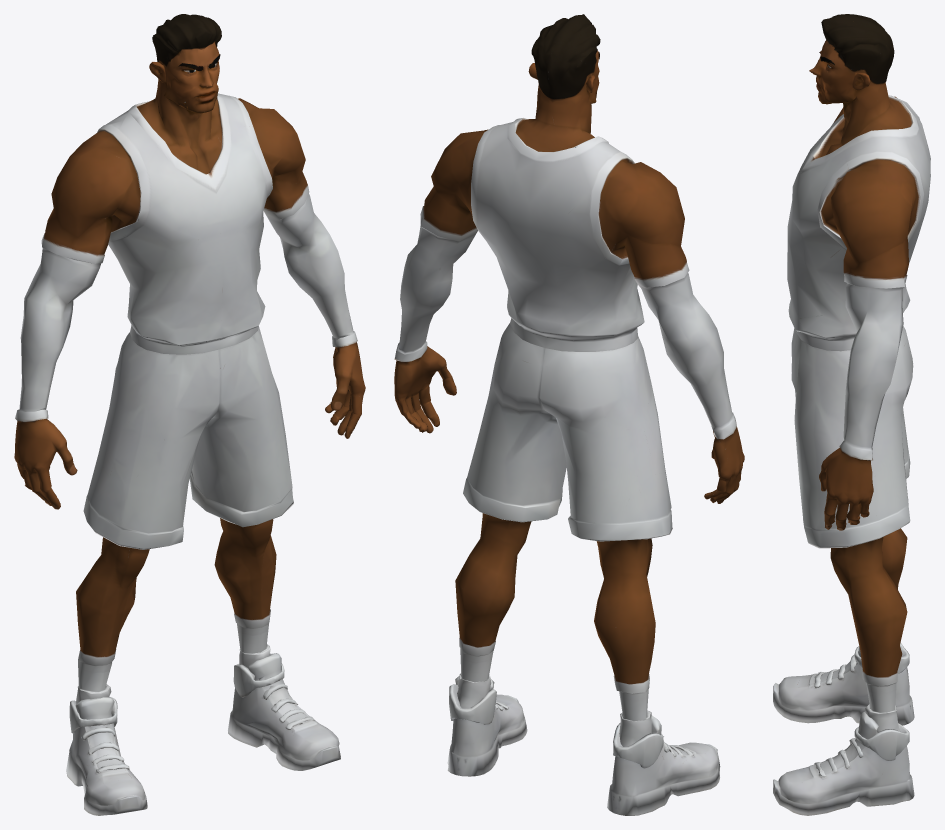
Rendered from lockdown.glb.
The picture shows the model from 3 angles, left to right: view 1: azimuth 30°, elevation 25°; view 2: azimuth 150°, elevation 25°; view 3: azimuth 270°, elevation 25°; orthographic projection.
Parts seen in each view (by area): view 1: geometry_0; view 2: geometry_0; view 3: geometry_0.
Part boxes in pixels (left/top/right/bottom): geometry_0: left=14, top=14, right=365, bottom=815; geometry_0: left=394, top=14, right=744, bottom=815; geometry_0: left=773, top=14, right=930, bottom=815.
Size of the model in its own units: 0.4517 by 0.9507 by 0.1836.
1 material, 1 textured.
